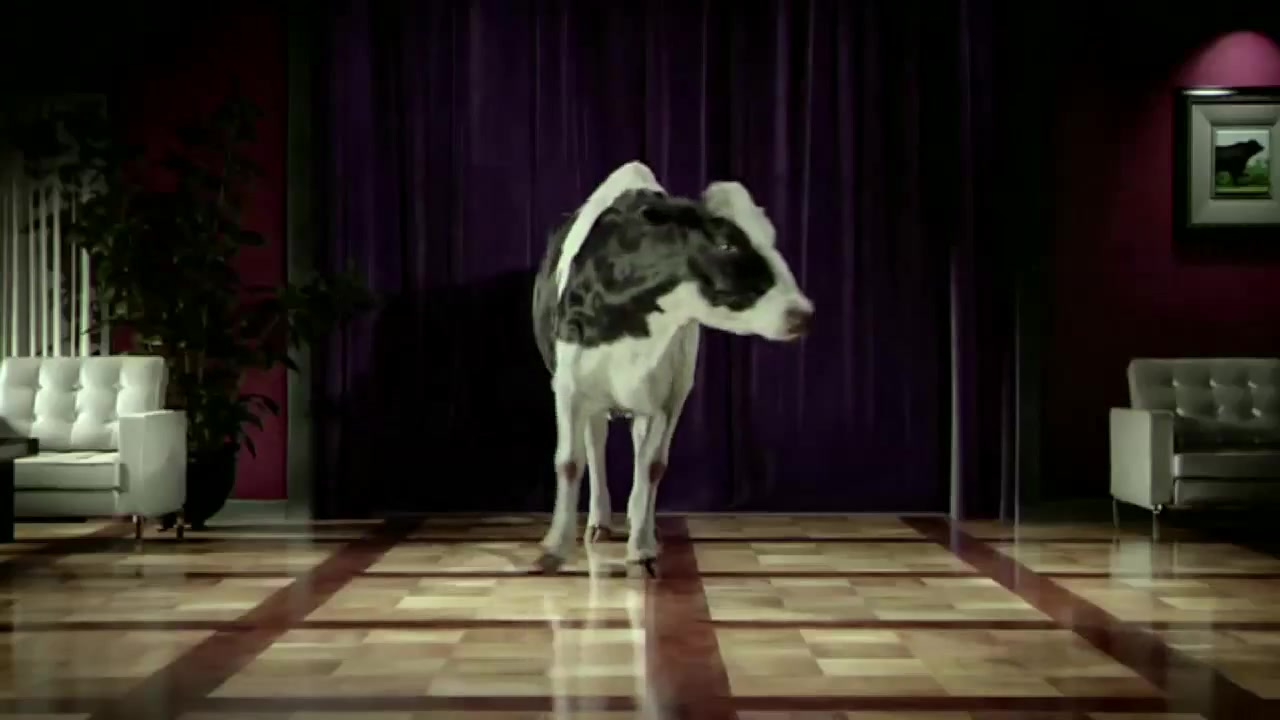cow: (527, 159, 819, 580)
